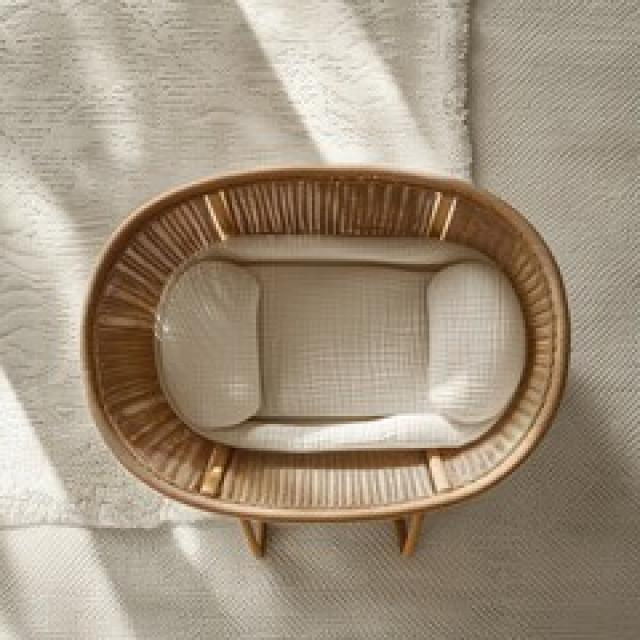crib: (77, 160, 571, 557)
